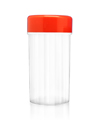medicinejar: (25, 14, 73, 105)
